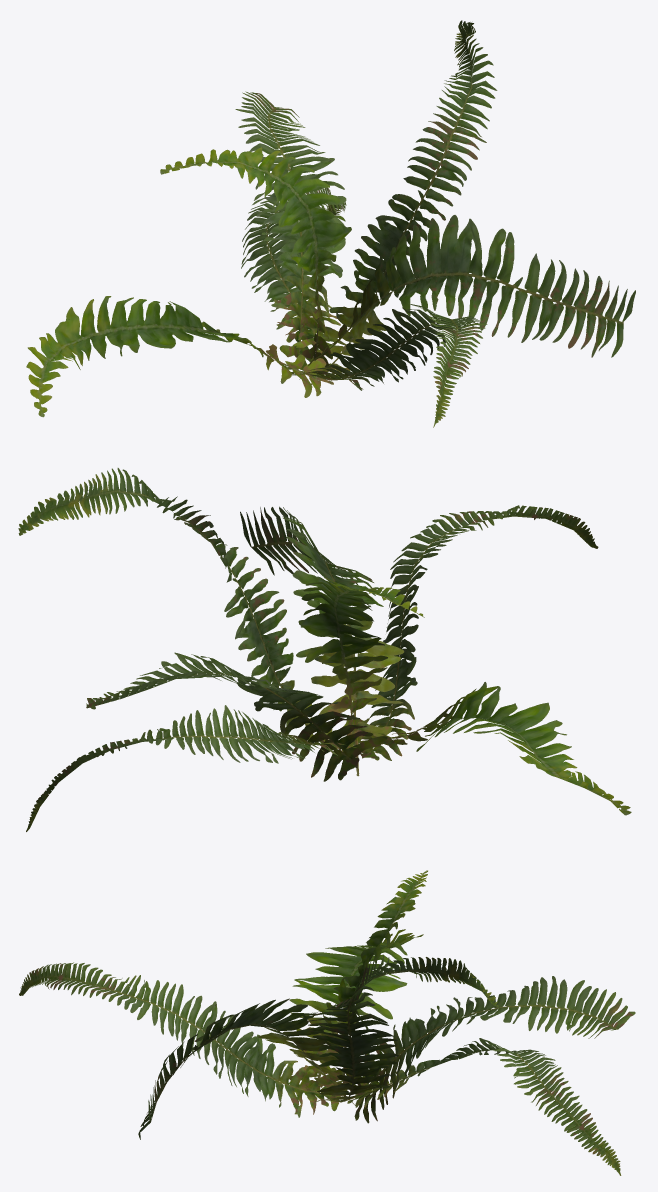
Rendered from fern_02_a.gltf.
3 views of the same model, one above another, from view 1: azimuth 30°, elevation 25°; view 2: azimuth 150°, elevation 25°; view 3: azimuth 270°, elevation 25° (orthographic). The views are drawn at different scales.
Visible parts, largest first — view 1: fern_02_a__x; view 2: fern_02_a__x; view 3: fern_02_a__x.
Boxes of the visible parts, <box> form: fern_02_a__x: <box>26,20,635,427</box>; fern_02_a__x: <box>18,468,631,831</box>; fern_02_a__x: <box>19,870,635,1175</box>.
Bounding box in the file's own units: 0.5519 × 0.2868 × 0.6134.
1 material, 1 textured.
